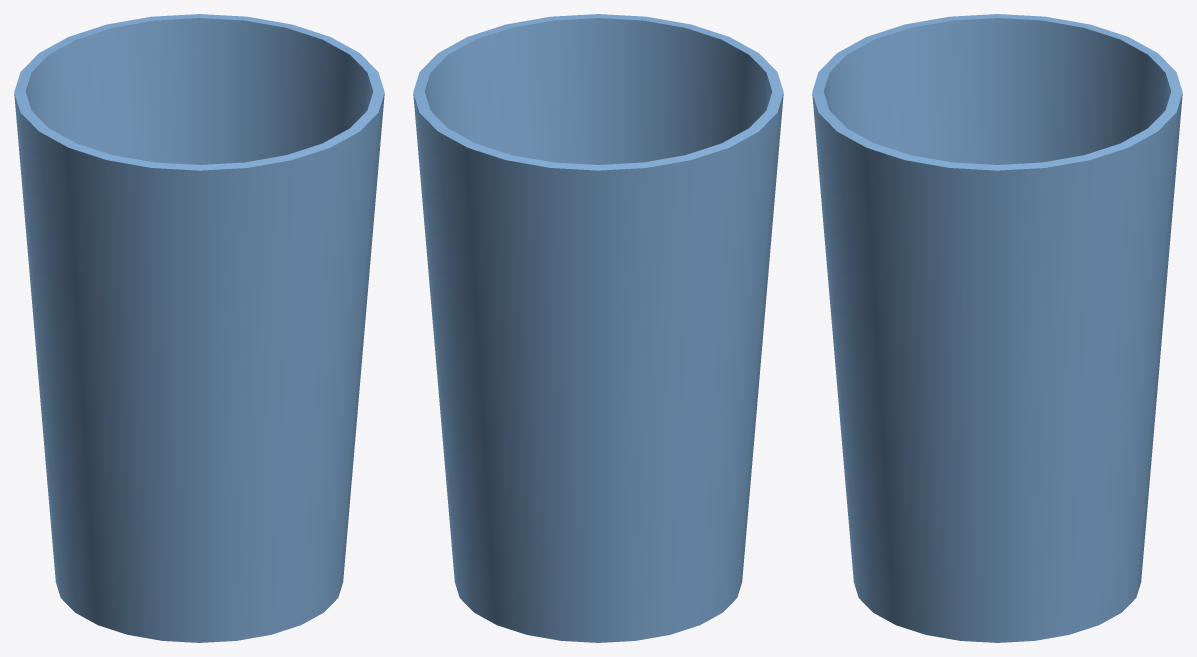
The model's file is LifeSizeCup.fbx.
3 views of the same model, side by side, from view 1: azimuth 30°, elevation 25°; view 2: azimuth 150°, elevation 25°; view 3: azimuth 270°, elevation 25° (orthographic).
Visible parts, largest first — view 1: Cup; view 2: Cup; view 3: Cup.
Part boxes in pixels (box(x1,y1,x2,y2)): Cup: box(14, 14, 384, 642); Cup: box(413, 14, 783, 642); Cup: box(812, 14, 1182, 642).
Bounding box in the file's own units: 2.58 × 3.77 × 2.58.
